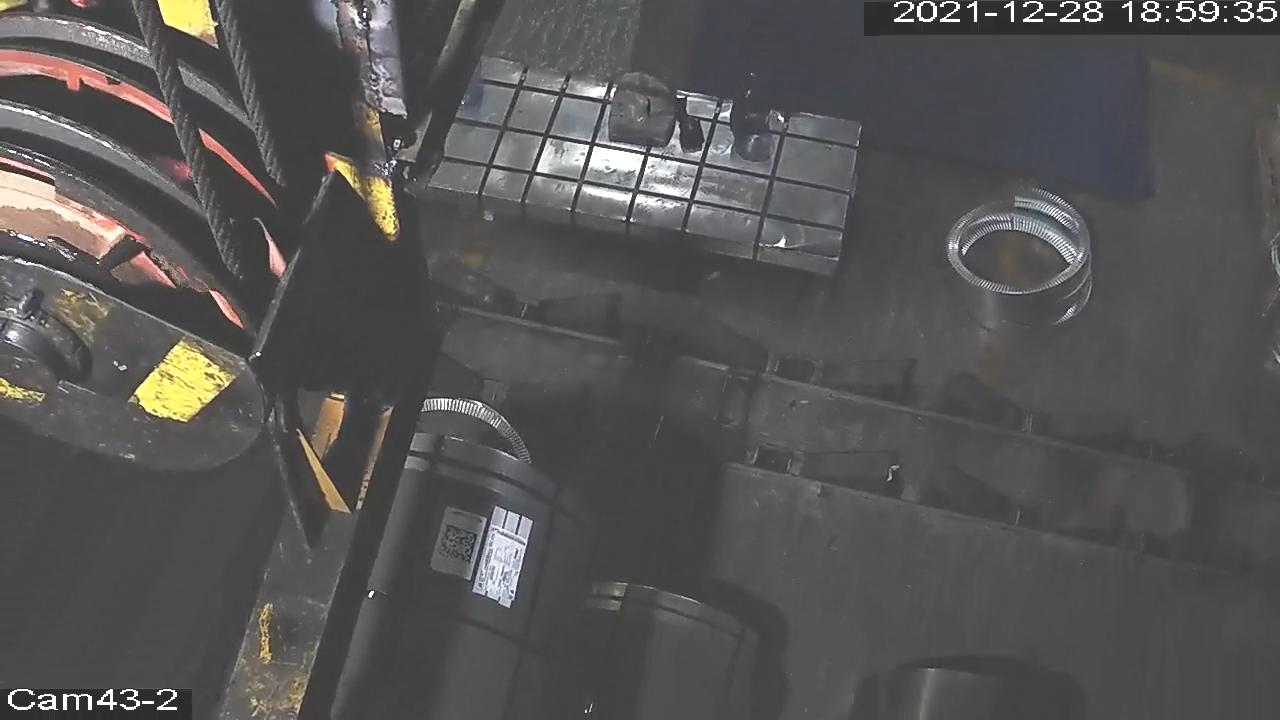data matrix: (433, 522, 484, 568)
